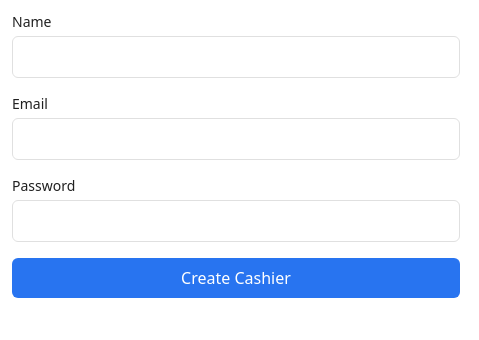
Test case: CreateCashierForm › shows validation error when password is empty
The width and height of the screenshot is (479, 340).
Type "Test Cashier" into the field labelled "Name" at [236, 57], box left=12, top=36, right=460, bottom=78
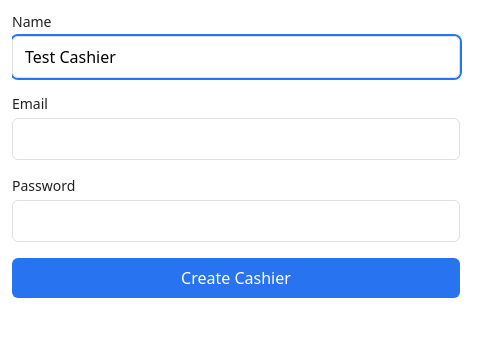
Type "cashier@example.com" into the field labelled "Email" at [236, 139], box left=12, top=118, right=460, bottom=160
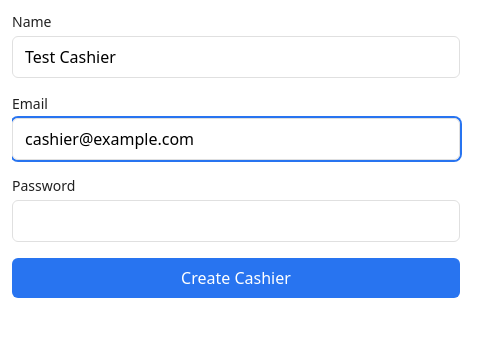
Click the button "Create Cashier" at [236, 278], box left=12, top=258, right=460, bottom=298
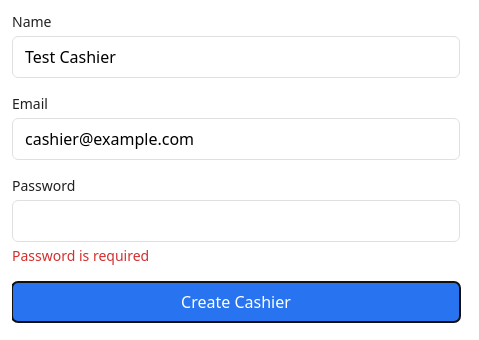
Expected: the text "Password is required" is shown, left=12, top=246, right=149, bottom=265
